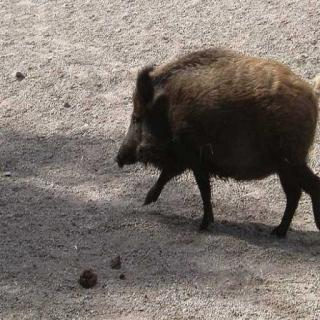Pig: (126, 36, 320, 244)
